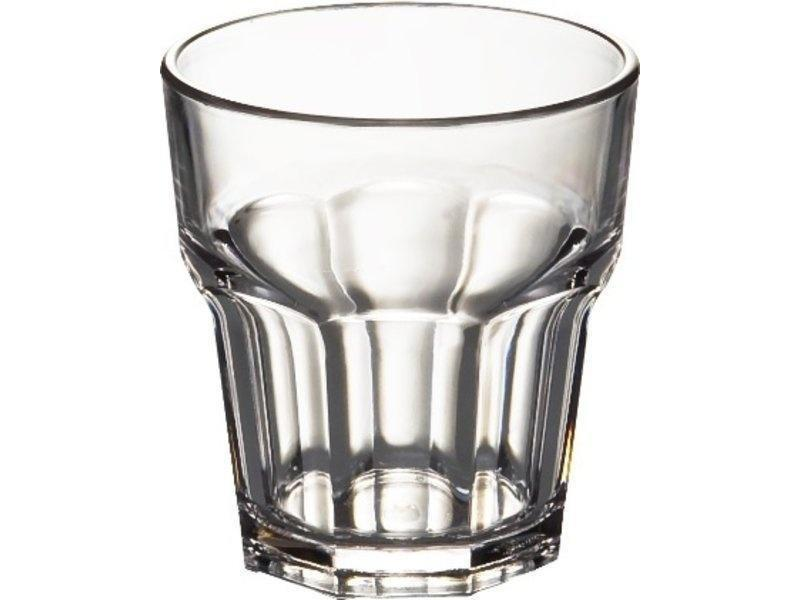glass-normal: (156, 1, 644, 598)
